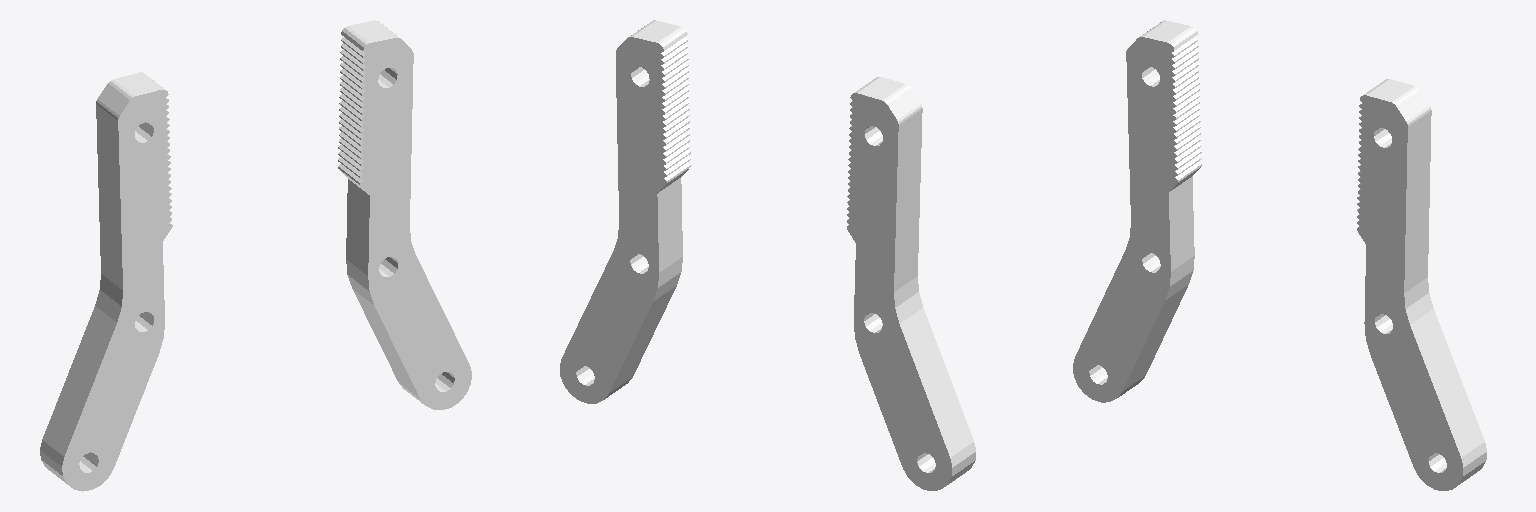
URDF robot description (dofbot):
<?xml version="1.0" encoding="utf-8"?>
<robot name="dofbot">
    <link name="base_link">
        <visual>
            <origin
                    xyz="0 0 0"
                    rpy="0 0 0"/>
            <geometry>
                <mesh
                        filename="package://dofbot_moveit/meshes/base_link.STL"/>
            </geometry>
            <material
                    name="">
                <color
                        rgba="0.7 0.7 0.7 1"/>
            </material>
        </visual>
        <collision>
            <origin
                    xyz="0 0 0"
                    rpy="0 0 0"/>
            <geometry>
                <mesh
                        filename="package://dofbot_moveit/meshes/base_link.STL"/>
            </geometry>
        </collision>
    </link>
    <link name="link1">
        <visual>
            <origin
                    xyz="0 0 0"
                    rpy="0 0 0"/>
            <geometry>
                <mesh
                        filename="package://dofbot_moveit/meshes/link1.STL"/>
            </geometry>
            <material
                    name="">
                <color
                        rgba="0 0.7 0 1"/>
            </material>
        </visual>
        <collision>
            <origin
                    xyz="0 0 0"
                    rpy="0 0 0"/>
            <geometry>
                <mesh
                        filename="package://dofbot_moveit/meshes/link1.STL"/>
            </geometry>
        </collision>
    </link>
    <joint name="joint1" type="revolute">
        <origin
                xyz="0 0 0.064"
                rpy="0 0 0"/>
        <parent
                link="base_link"/>
        <child
                link="link1"/>
        <axis
                xyz="0 0 1"/>
        <limit
                lower="-1.5708"
                upper="1.5708"
                effort="100"
                velocity="1"/>
    </joint>
    <link name="link2">
        <visual>
            <origin
                    xyz="0 0 0"
                    rpy="0 0 0"/>
            <geometry>
                <mesh
                        filename="package://dofbot_moveit/meshes/link2.STL"/>
            </geometry>
            <material
                    name="">
                <color
                        rgba="0.7 0.7 0.7 1"/>
            </material>
        </visual>
        <collision>
            <origin
                    xyz="0 0 0"
                    rpy="0 0 0"/>
            <geometry>
                <mesh
                        filename="package://dofbot_moveit/meshes/link2.STL"/>
            </geometry>
        </collision>
    </link>
    <joint name="joint2" type="revolute">
        <origin
                xyz="0 0 0.0435"
                rpy="0 1.5708 0"/>
        <parent
                link="link1"/>
        <child
                link="link2"/>
        <axis
                xyz="0 0 1"/>
        <limit
                lower="-1.5708"
                upper="1.5708"
                effort="100"
                velocity="1"/>
    </joint>
    <link name="link3">
        <visual>
            <origin
                    xyz="0 0 0"
                    rpy="0 0 0"/>
            <geometry>
                <mesh
                        filename="package://dofbot_moveit/meshes/link3.STL"/>
            </geometry>
            <material
                    name="">
                <color
                        rgba="0 0.7 0 1"/>
            </material>
        </visual>
        <collision>
            <origin
                    xyz="0 0 0"
                    rpy="0 0 0"/>
            <geometry>
                <mesh
                        filename="package://dofbot_moveit/meshes/link3.STL"/>
            </geometry>
        </collision>
    </link>
    <joint name="joint3" type="revolute">
        <origin
                xyz="-0.08285 0 0"
                rpy="0 0 0"/>
        <parent
                link="link2"/>
        <child
                link="link3"/>
        <axis
                xyz="0 0 1"/>
        <limit
                lower="-1.5708"
                upper="1.5708"
                effort="100"
                velocity="1"/>
    </joint>
    <link name="link4">
        <visual>
            <origin
                    xyz="0 0 0"
                    rpy="0 0 0"/>
            <geometry>
                <mesh
                        filename="package://dofbot_moveit/meshes/link4.STL"/>
            </geometry>
            <material
                    name="">
                <color
                        rgba="0.7 0.7 0.7 1"/>
            </material>
        </visual>
        <collision>
            <origin
                    xyz="0 0 0"
                    rpy="0 0 0"/>
            <geometry>
                <mesh
                        filename="package://dofbot_moveit/meshes/link4.STL"/>
            </geometry>
        </collision>
    </link>
    <joint name="joint4" type="revolute">
        <origin
                xyz="-0.08285 0 0"
                rpy="0 0 0"/>
        <parent
                link="link3"/>
        <child
                link="link4"/>
        <axis
                xyz="0 0 1"/>
        <limit
                lower="-1.5708"
                upper="1.5708"
                effort="100"
                velocity="1"/>
    </joint>
    <link name="link5">
        <visual>
            <origin
                    xyz="0 0 0"
                    rpy="0 0 0"/>
            <geometry>
                <mesh
                        filename="package://dofbot_moveit/meshes/link5.STL"/>
            </geometry>
            <material
                    name="">
                <color
                        rgba="1 1 1 1"/>
            </material>
        </visual>
        <collision>
            <origin
                    xyz="0 0 0"
                    rpy="0 0 0"/>
            <geometry>
                <mesh
                        filename="package://dofbot_moveit/meshes/link5.STL"/>
            </geometry>
        </collision>
    </link>
    <joint name="joint5" type="revolute">
        <origin
                xyz="-0.07385 -0.00215 0"
                rpy="0 -1.5708 0"/>
        <parent
                link="link4"/>
        <child
                link="link5"/>
        <axis
                xyz="0 0 1"/>
        <limit
                lower="-1.5708"
                upper="3.1416"
                effort="100"
                velocity="1"/>
    </joint>
</robot>

--- Render facts (derived) ---
3 views of the same robot in one strip: view 1: azimuth 30°, elevation 25°; view 2: azimuth 150°, elevation 25°; view 3: azimuth 330°, elevation 25° (orthographic).
Model dofbot with 6 links and 5 joints (5 revolute), rooted at base_link, posed every joint at zero.
Links seen in each view (by area): view 1: link5; view 2: link5; view 3: link5.
Boxes of the visible links, x1,y1,x2,y2 form: link5: (40, 20, 471, 491); link5: (560, 20, 975, 490); link5: (1073, 20, 1486, 490).
Size in the robot's own frame: 0.6048 by 0.0754 by 0.5495 metres.
1 mesh visuals loaded from 6 distinct referenced files (1 binary STL); not drawn: 5 (reference not matched to a file when rendering).